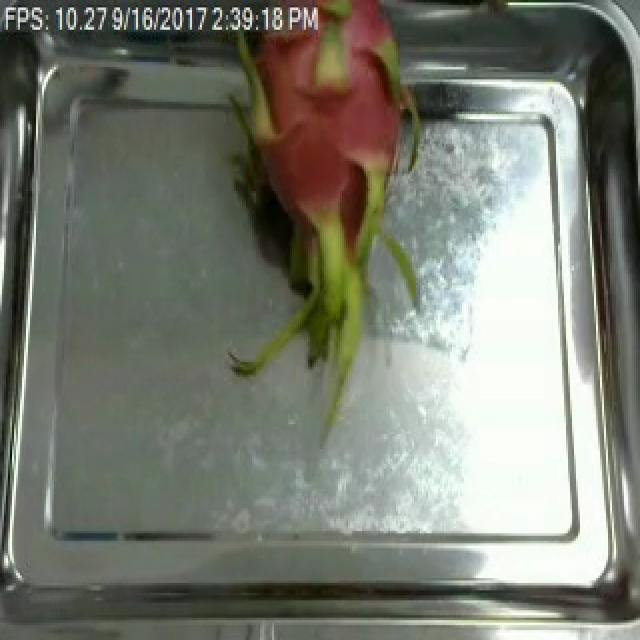fruit: (186, 2, 460, 407)
